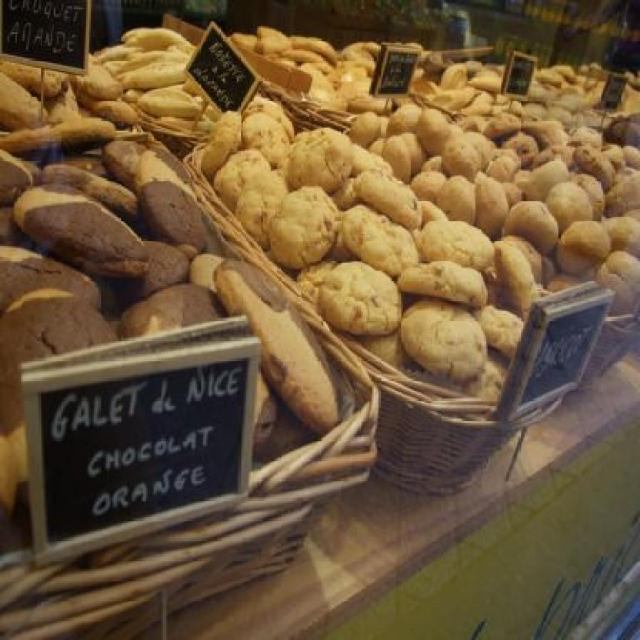Cookie: (116, 283, 276, 460), (214, 255, 340, 438), (15, 181, 148, 281), (0, 321, 55, 526), (0, 282, 126, 355), (133, 144, 210, 258), (399, 296, 490, 378), (0, 242, 100, 315), (318, 258, 404, 336), (339, 204, 421, 278), (268, 186, 336, 269), (232, 165, 292, 253), (401, 254, 490, 308), (284, 128, 354, 194), (414, 218, 497, 270), (212, 147, 271, 218), (354, 172, 426, 226), (487, 245, 538, 318), (466, 303, 522, 363), (0, 121, 112, 150), (260, 406, 314, 464), (0, 72, 49, 131), (199, 112, 244, 176), (352, 328, 418, 370), (297, 64, 348, 116), (459, 346, 512, 396), (238, 116, 290, 166), (294, 249, 338, 308), (38, 153, 126, 182), (0, 64, 71, 98), (100, 136, 143, 190), (0, 150, 43, 202), (242, 98, 296, 138), (335, 82, 397, 116), (188, 250, 235, 293), (566, 143, 614, 182), (328, 208, 359, 266), (77, 95, 136, 124), (502, 130, 538, 172), (78, 67, 126, 98), (528, 143, 578, 172), (354, 142, 392, 176), (606, 175, 640, 212), (294, 39, 336, 67), (279, 50, 330, 73), (0, 208, 28, 244), (484, 110, 518, 138), (418, 196, 446, 227), (519, 124, 556, 146), (45, 100, 81, 122), (252, 34, 288, 56), (343, 42, 382, 62), (325, 69, 363, 89), (258, 26, 290, 45), (232, 33, 260, 50), (344, 48, 373, 64), (232, 128, 246, 156), (354, 56, 372, 76), (276, 56, 301, 70), (489, 280, 500, 305), (87, 51, 104, 66)
